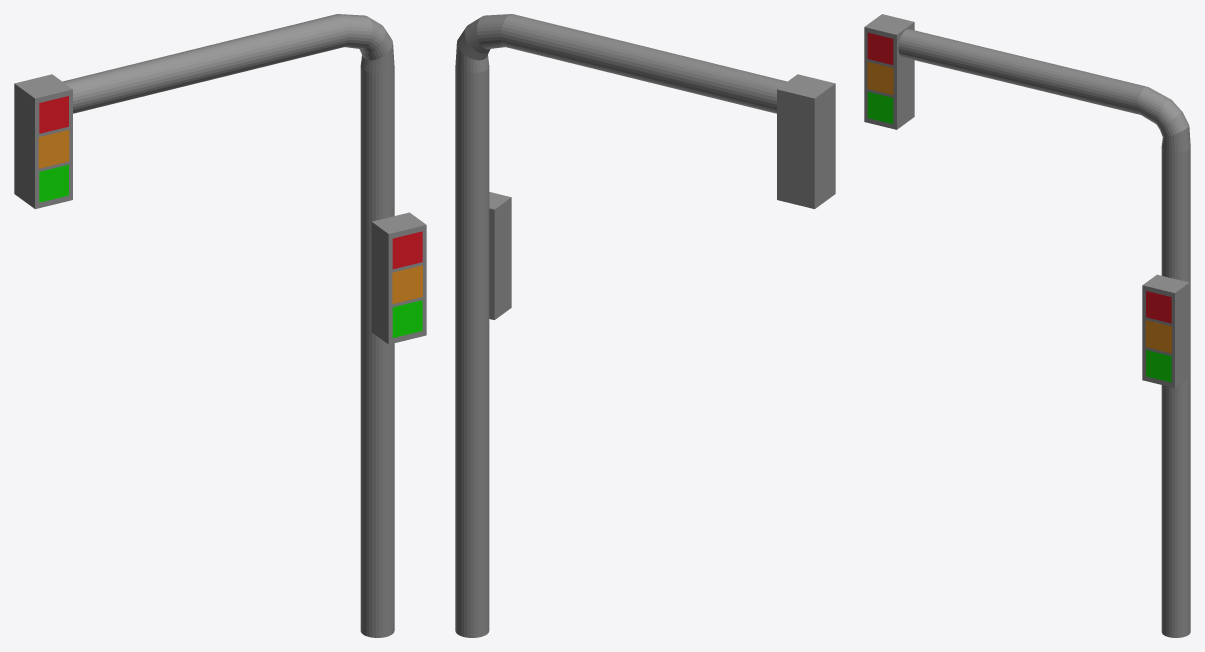
File: traffic_semaphore.gltf
3 views of the same model, side by side, from view 1: azimuth 30°, elevation 25°; view 2: azimuth 150°, elevation 25°; view 3: azimuth 330°, elevation 25° (orthographic). The views are drawn at different scales.
Visible parts, largest first — view 1: RootNode; view 2: RootNode; view 3: RootNode.
Boxes of the visible parts, x1,y1,x2,y2 form: RootNode: (14,14,426,637); RootNode: (455,14,835,637); RootNode: (864,14,1190,637).
Size of the model in its own units: 6.16 by 9.79 by 1.01.
